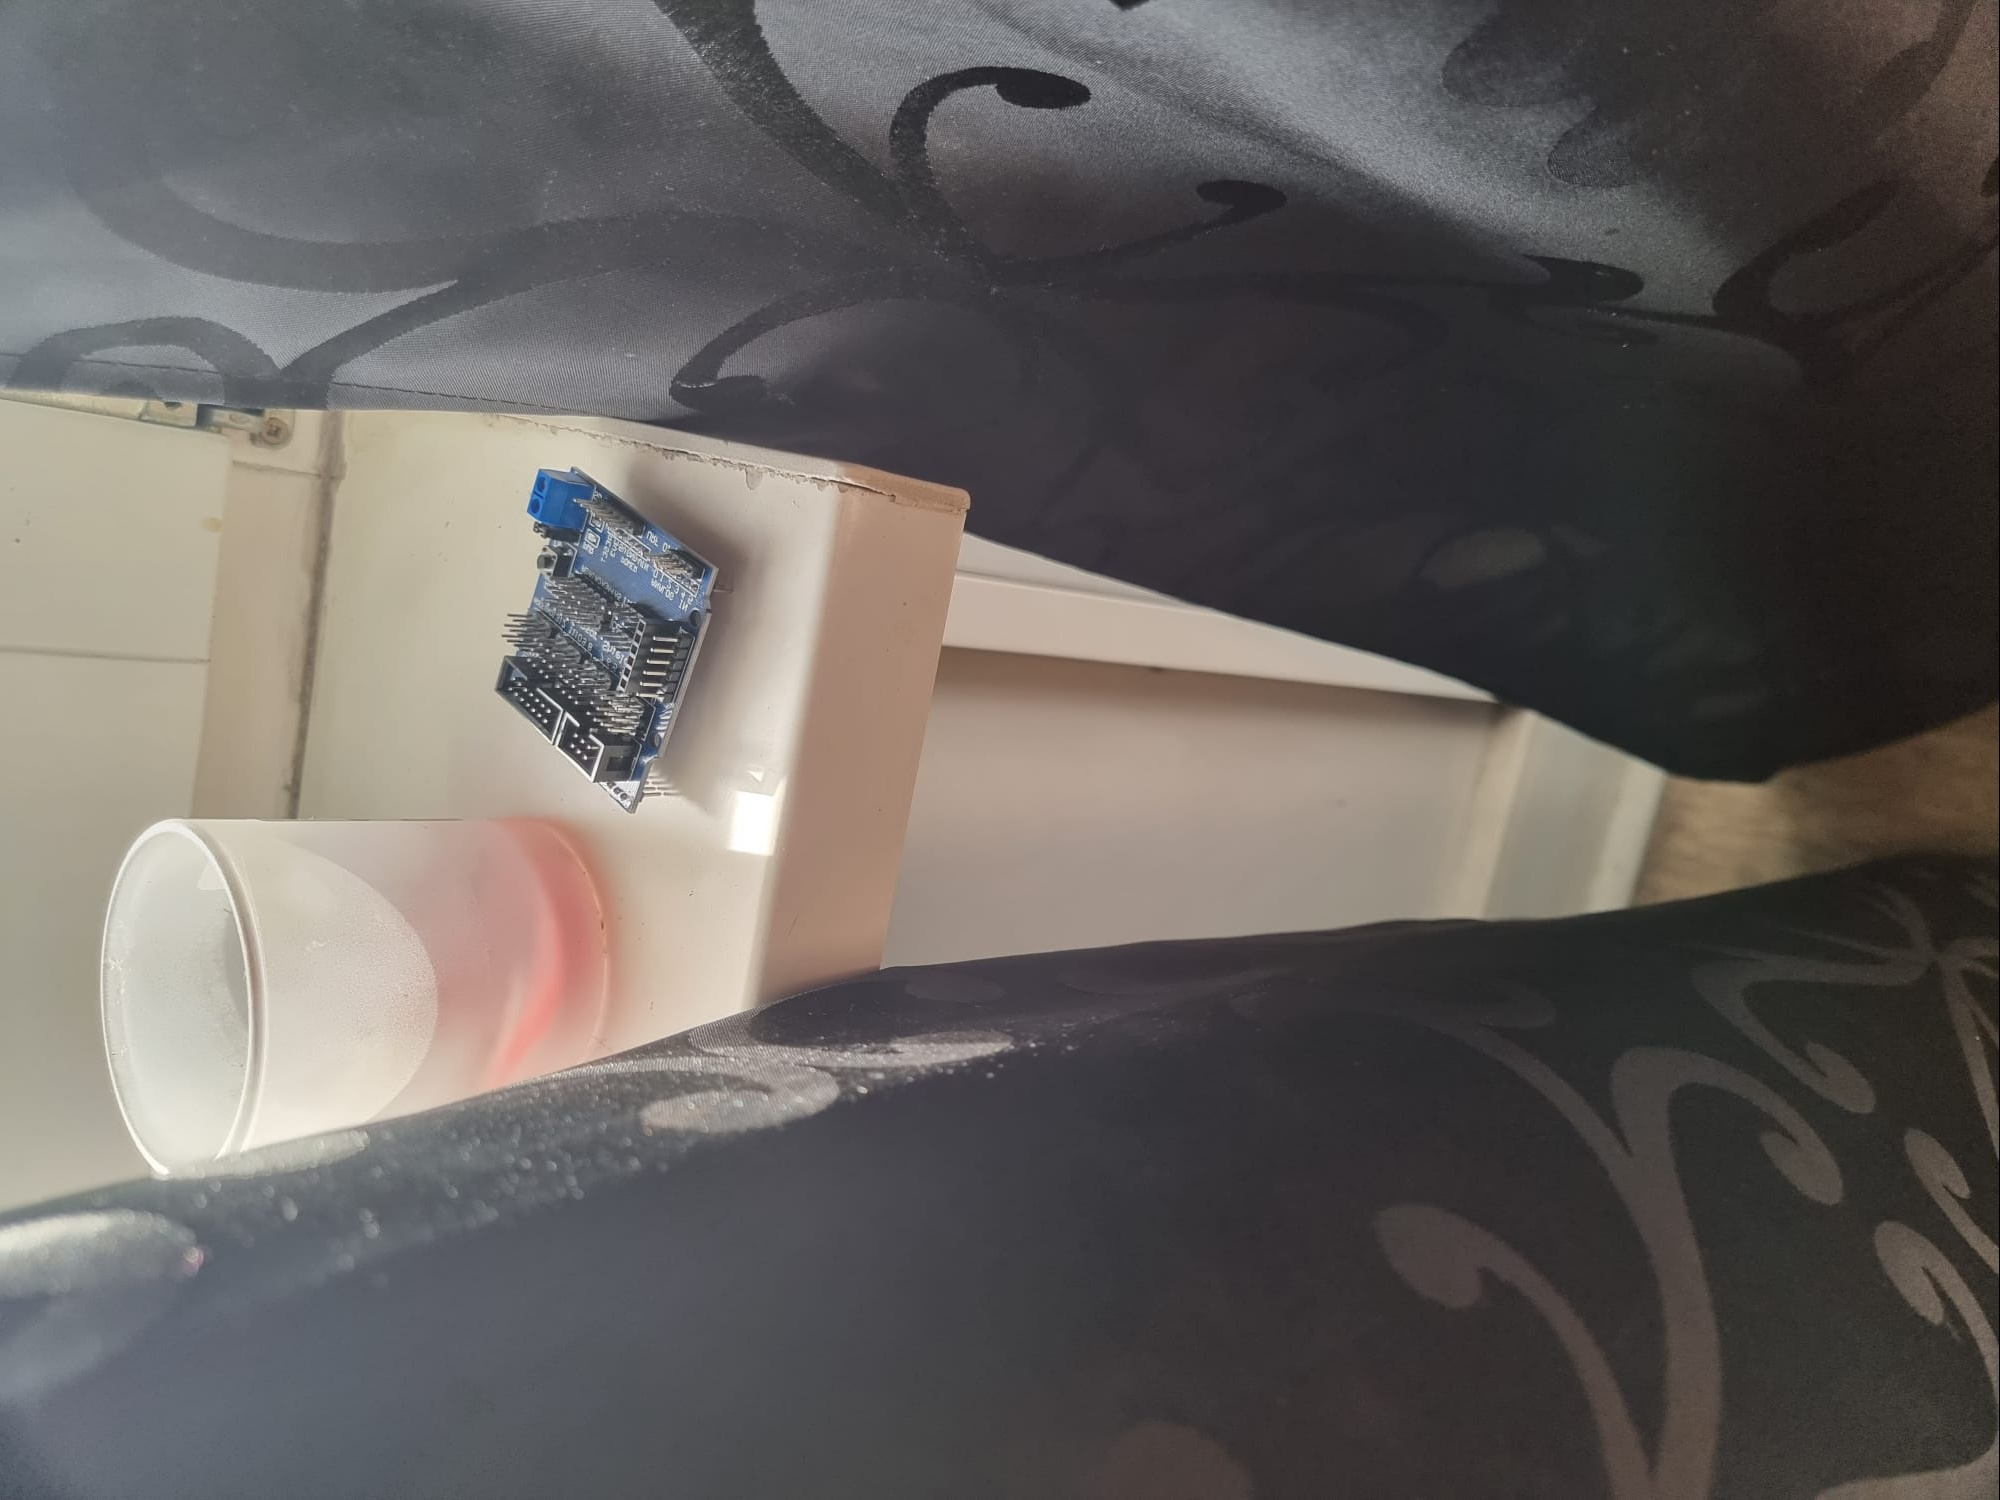5V EXPANSION: (498, 455, 735, 816)
